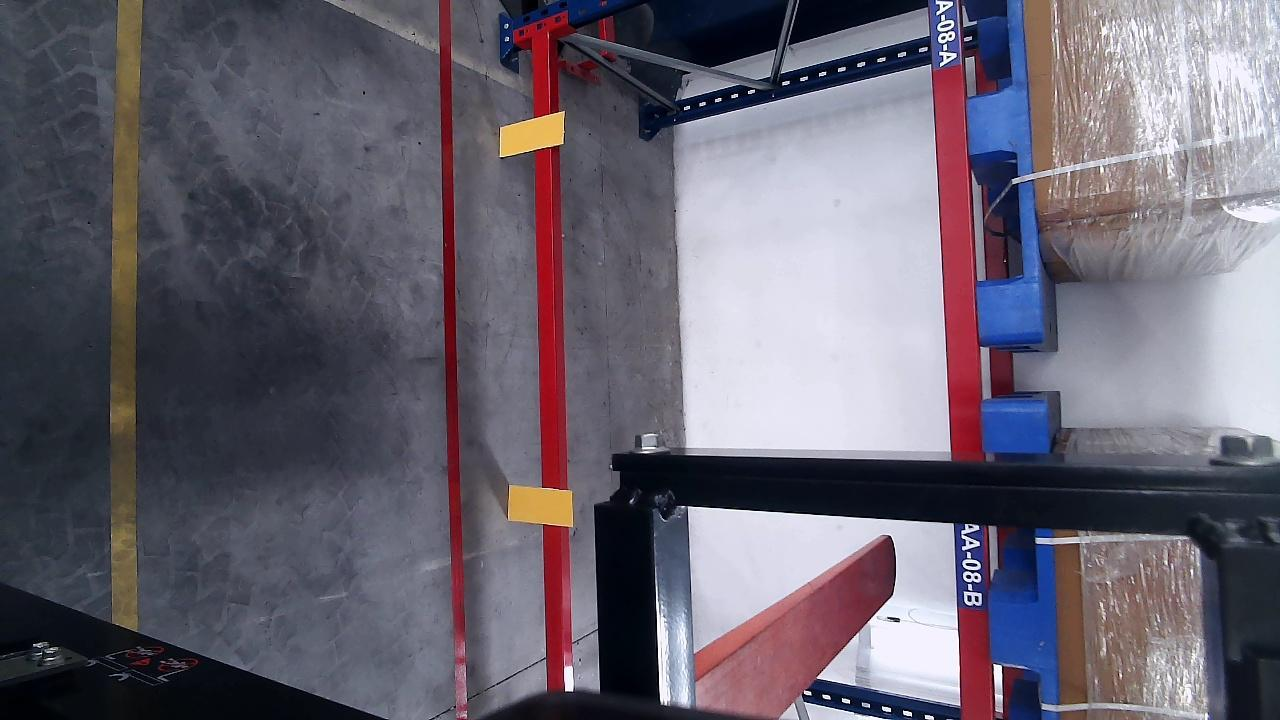h_rack: (529, 34, 568, 687)
orange_strip: (498, 111, 563, 160), (506, 486, 573, 525)
red_line: (436, 0, 470, 720)
small_pallet: (961, 0, 1043, 338), (986, 403, 1057, 716)
yellow_line: (108, 0, 144, 635)
